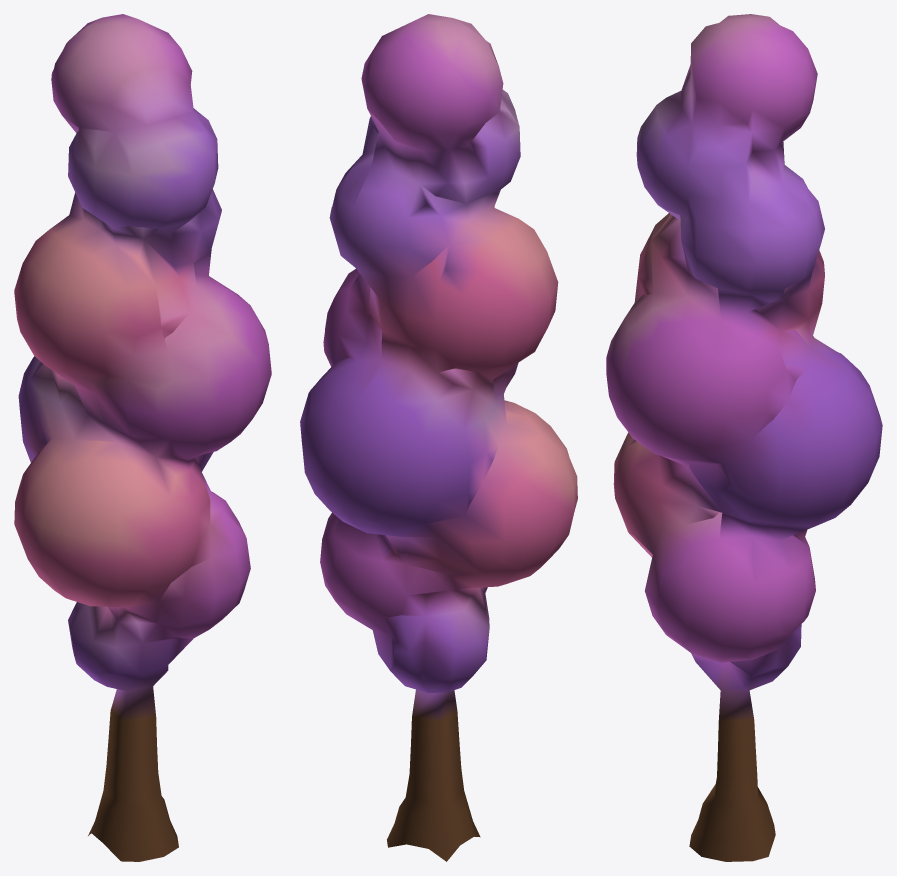
File: tall-tree-103-lod2.obj
3 renders of one model, left to right at view 1: azimuth 30°, elevation 25°; view 2: azimuth 150°, elevation 25°; view 3: azimuth 270°, elevation 25°, orthographic.
Visible parts, largest first — view 1: simplified; view 2: simplified; view 3: simplified.
Part boxes in pixels (x1=…): simplified: x1=14, y1=14, x2=271, y2=861; simplified: x1=300, y1=14, x2=577, y2=861; simplified: x1=606, y1=14, x2=882, y2=861.
Size of the model in its own units: 207 by 711 by 217.
